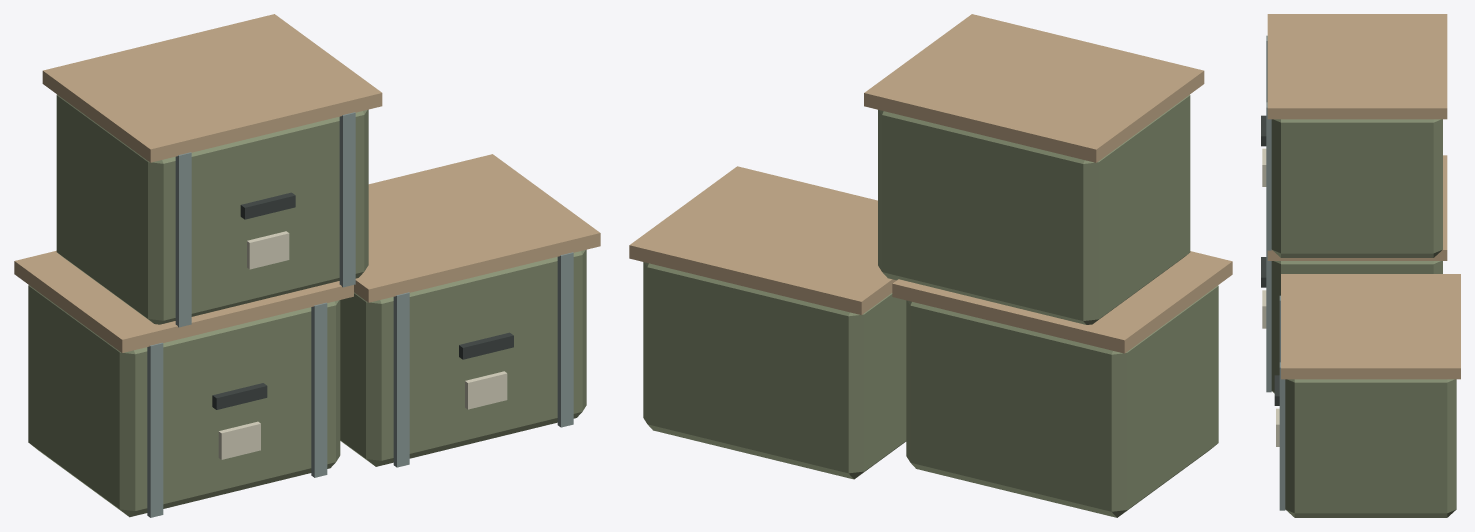
The model's file is supply-crates.glb.
The picture shows the model from 3 angles, left to right: view 1: azimuth 30°, elevation 25°; view 2: azimuth 150°, elevation 25°; view 3: azimuth 270°, elevation 25°; orthographic projection. The views are drawn at different scales.
Visible parts, largest first — view 1: supply crate, crate lid, crate steel band, inventory tag, handle; view 2: supply crate, crate lid; view 3: supply crate, crate lid, crate steel band, handle, inventory tag.
Boxes of the visible parts, left/top/right/bottom form: supply crate: left=28, top=94, right=586, bottom=517; crate lid: left=14, top=14, right=600, bottom=352; crate steel band: left=147, top=112, right=573, bottom=517; inventory tag: left=218, top=231, right=507, bottom=459; handle: left=212, top=192, right=513, bottom=409; supply crate: left=643, top=94, right=1218, bottom=517; crate lid: left=629, top=14, right=1232, bottom=353; supply crate: left=1271, top=119, right=1456, bottom=517; crate lid: left=1267, top=14, right=1460, bottom=379; crate steel band: left=1266, top=35, right=1285, bottom=510; handle: left=1261, top=115, right=1279, bottom=405; inventory tag: left=1262, top=148, right=1279, bottom=446.
Bounding box in the file's own units: 1.72 × 1.31 × 0.7335.
